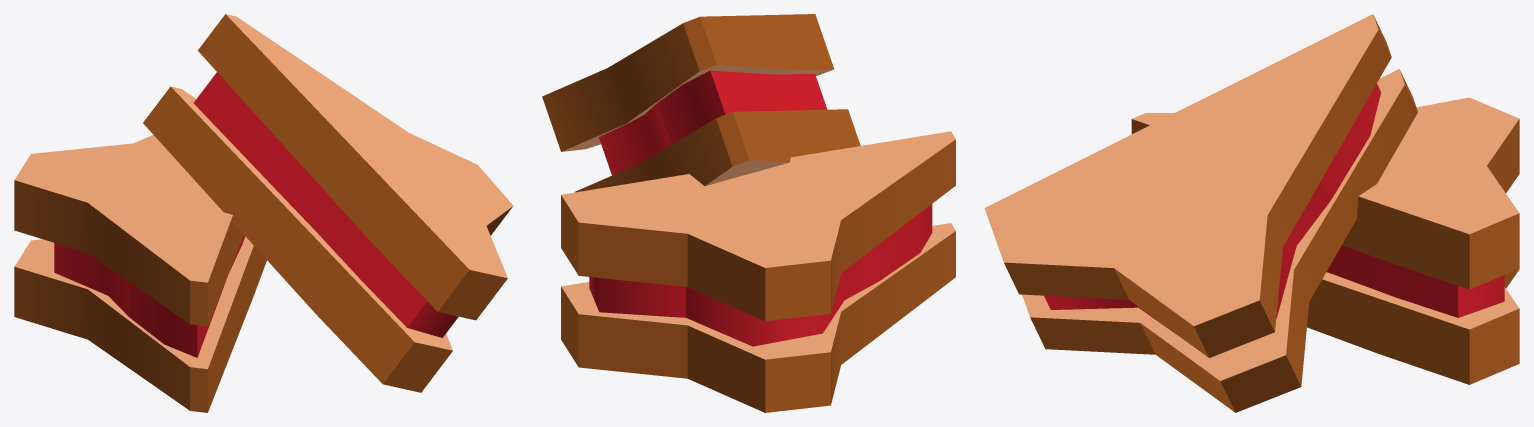
File: JamSandwich.FBX
3 views of the same model, side by side, from view 1: azimuth 30°, elevation 25°; view 2: azimuth 150°, elevation 25°; view 3: azimuth 270°, elevation 25° (orthographic). The views are drawn at different scales.
Parts seen in each view (by area): view 1: JamSandwich; view 2: JamSandwich; view 3: JamSandwich.
Part boxes in pixels (x1,y1,x2,y2): JamSandwich: (14,14,513,412); JamSandwich: (542,14,955,412); JamSandwich: (984,14,1519,412).
Size of the model in its own units: 40.8 by 30.7 by 45.91.
